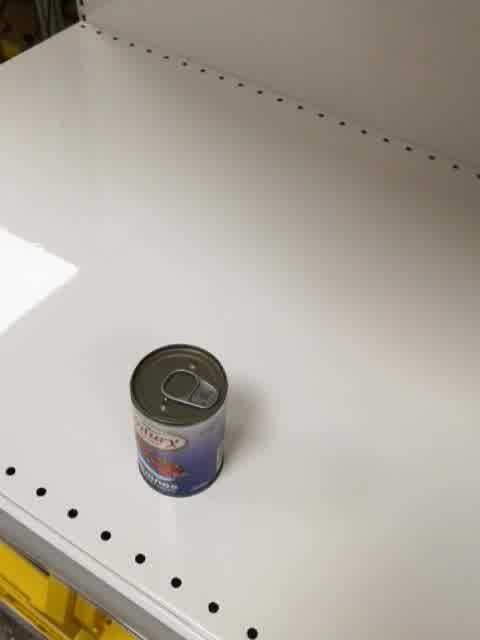sardine: (129, 343, 229, 497)
